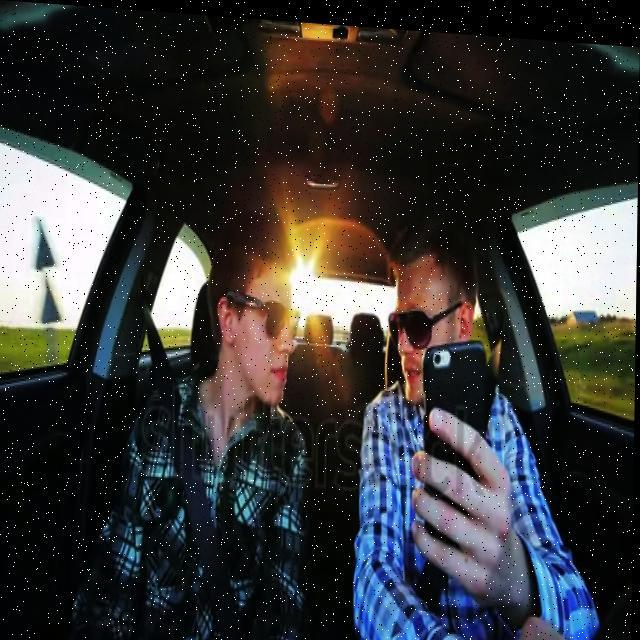PhoneCall: (422, 332, 488, 530)
